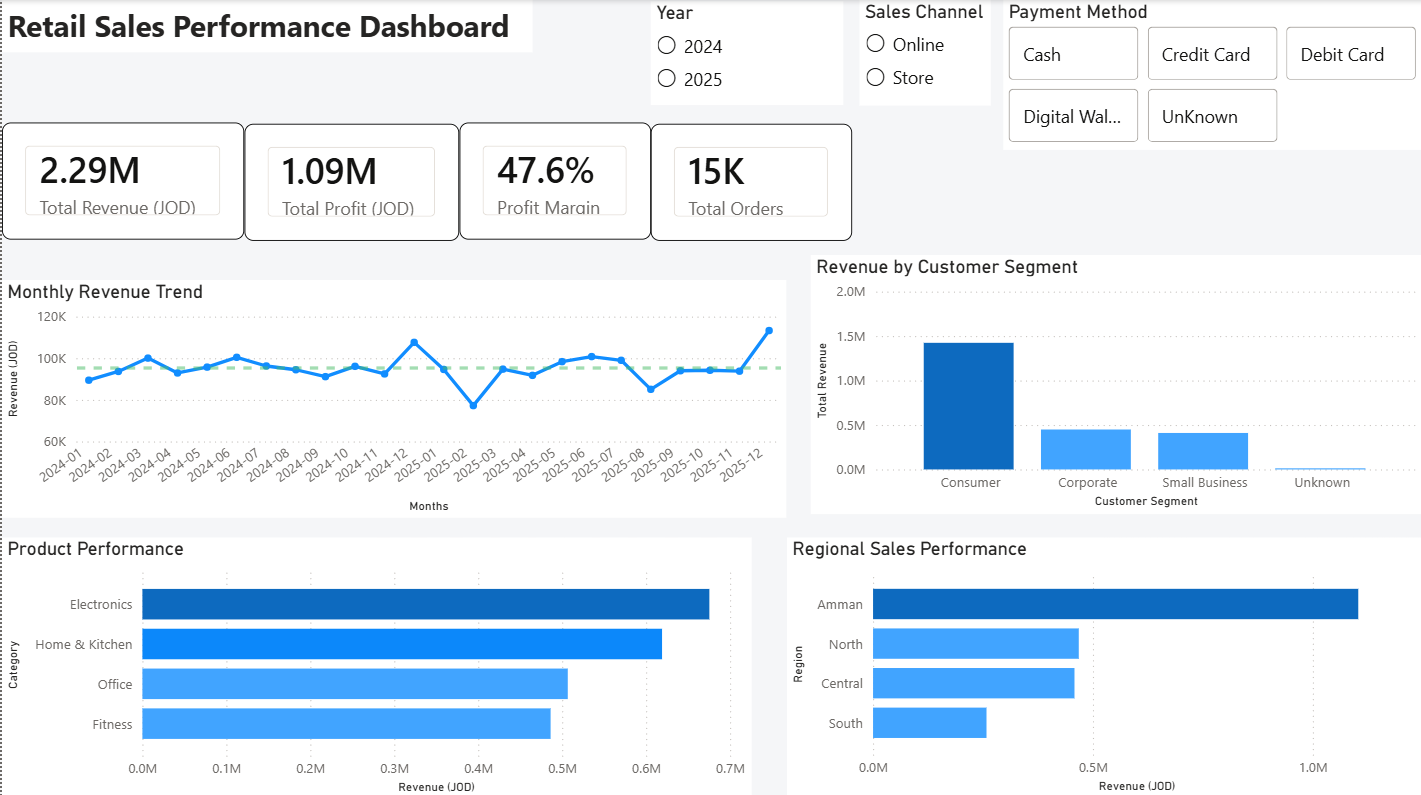

This screenshot's page, from the dashboard's own definition file:
{"tool":"powerbi","page":{"name":"Page 1","canvas":[1280,720],"ordinal":0},"visuals":[{"type":"cardVisual","title":"Total Revenue","fields":{"Data":["day1_retail_sales_portfolio.Total_Revenue"]},"box":[0,110.6,218.4,105.9],"z":0},{"type":"cardVisual","fields":{"Data":["day1_retail_sales_portfolio.Total_Profit"]},"box":[218.4,111.5,194,105.9],"z":1000},{"type":"cardVisual","fields":{"Data":["day1_retail_sales_portfolio.Profit_Margin"]},"box":[412.4,110.6,172.4,105.9],"z":2000},{"type":"cardVisual","fields":{"Data":["day1_retail_sales_portfolio.Total_Order"]},"box":[584.8,111.5,181.8,105.9],"z":3000},{"type":"lineChart","title":"Monthly Revenue Trend","fields":{"Y":["day1_retail_sales_portfolio.Total_Revenue"],"Category":["day1_retail_sales_portfolio.Year_Month"]},"box":[0,252.1,707.6,214.6],"z":4000},{"type":"barChart","title":"Product Performance","fields":{"Category":["day1_retail_sales_portfolio.Category","day1_retail_sales_portfolio.Product"],"Y":["day1_retail_sales_portfolio.Total_Revenue"]},"box":[0,484.5,675.7,236.2],"z":4001},{"type":"barChart","title":"Regional Sales Performance","fields":{"Category":["day1_retail_sales_portfolio.Region","day1_retail_sales_portfolio.City"],"Y":["day1_retail_sales_portfolio.Total_Revenue"]},"box":[707.6,484.5,572.6,235.2],"z":4002},{"type":"columnChart","title":"Revenue by Customer Segment","fields":{"Category":["day1_retail_sales_portfolio.Customer_Segment"],"Y":["day1_retail_sales_portfolio.Total_Revenue"]},"box":[729.1,229.6,551.1,233.4],"z":4003},{"type":"listSlicer","fields":{"Values":["day1_retail_sales_portfolio.Sales_Channel"]},"box":[773.2,0,118.1,95.6],"z":4005},{"type":"advancedSlicerVisual","fields":{"Values":["day1_retail_sales_portfolio.Payment_Method"]},"box":[902.5,0,377.7,135],"z":4006},{"type":"listSlicer","fields":{"Values":["day1_retail_sales_portfolio.Order_Date.Variation.Date Hierarchy.Year"]},"box":[584.8,0.9,173.4,93.7],"z":4007},{"type":"textbox","box":[0,0,478.8,47.5],"z":4008}]}

Visuals, with their boxes in screenshot pixels (x1, y1, x2, y2), scaled from the page's 1280x720 canvas onto the 1421x795 screenshot:
"Total Revenue" cardVisual: locate(0, 122, 242, 239)
cardVisual - day1_retail_sales_portfolio.Total_Profit: locate(242, 123, 458, 240)
cardVisual - day1_retail_sales_portfolio.Profit_Margin: locate(458, 122, 649, 239)
cardVisual - day1_retail_sales_portfolio.Total_Order: locate(649, 123, 851, 240)
"Monthly Revenue Trend" lineChart: locate(0, 278, 786, 515)
"Product Performance" barChart: locate(0, 535, 750, 794)
"Regional Sales Performance" barChart: locate(786, 535, 1420, 794)
"Revenue by Customer Segment" columnChart: locate(809, 254, 1420, 511)
listSlicer - day1_retail_sales_portfolio.Sales_Channel: locate(858, 0, 989, 106)
advancedSlicerVisual - day1_retail_sales_portfolio.Payment_Method: locate(1002, 0, 1420, 149)
listSlicer - day1_retail_sales_portfolio.Order_Date.Variation.Date Hierarchy.Year: locate(649, 1, 842, 104)
textbox: locate(0, 0, 532, 52)
